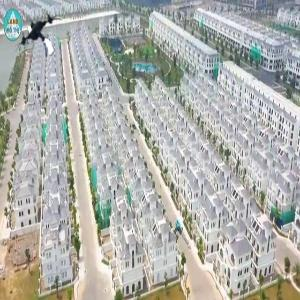drone: (13, 9, 67, 63)
